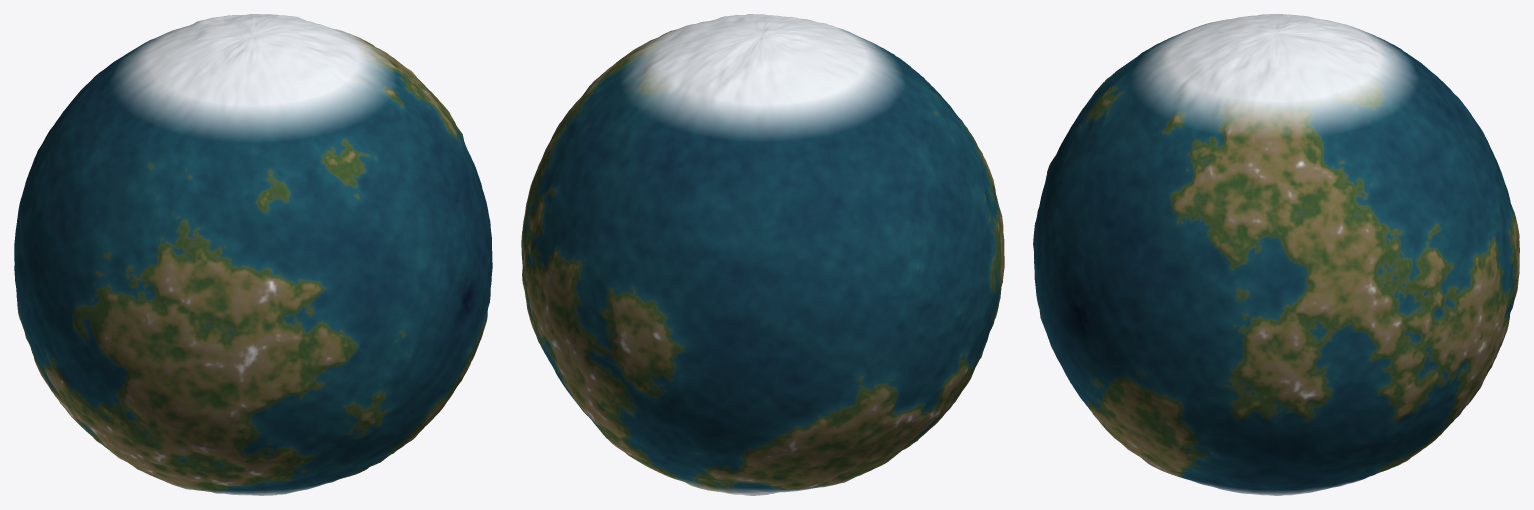
Rendered from Verdant_World.glb.
3 views of the same model, side by side, from view 1: azimuth 30°, elevation 25°; view 2: azimuth 150°, elevation 25°; view 3: azimuth 270°, elevation 25° (orthographic).
Visible parts, largest first — view 1: pln_verdant_world; view 2: pln_verdant_world; view 3: pln_verdant_world.
Boxes of the visible parts, x1,y1,x2,y2 form: pln_verdant_world: (14,14,492,495); pln_verdant_world: (521,14,1004,495); pln_verdant_world: (1033,14,1519,495).
Bounding box in the file's own units: 1.01 × 1.02 × 1.01.
Materials: 1 (1 with a texture image).
